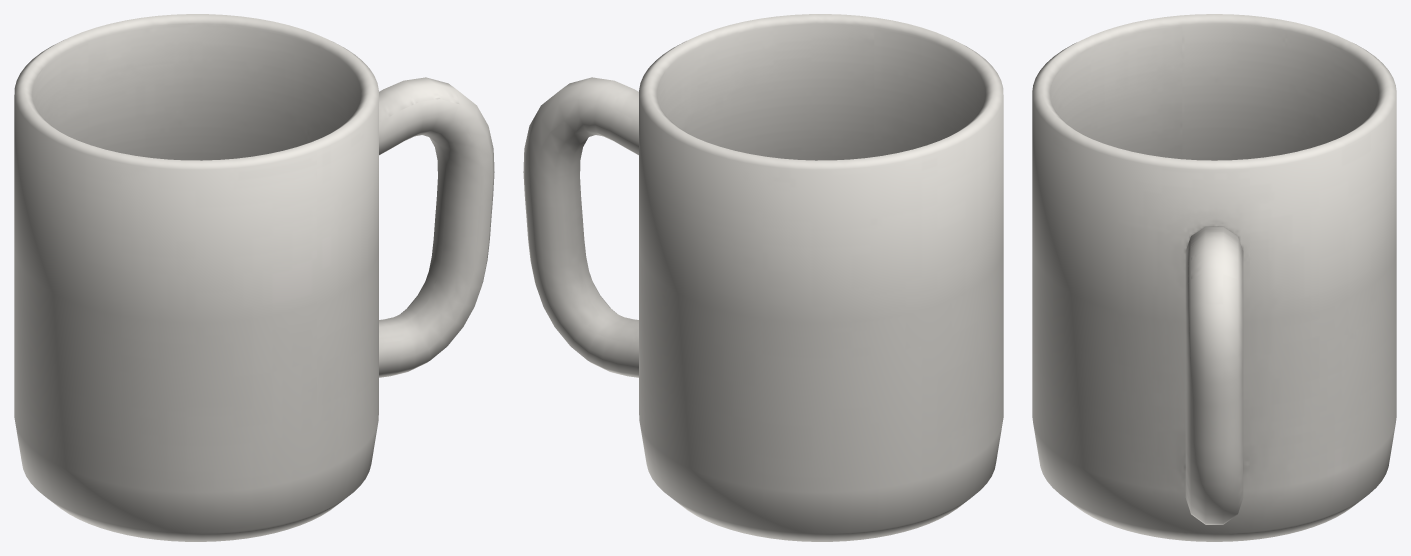
File: white.glb
3 renders of one model, left to right at view 1: azimuth 30°, elevation 25°; view 2: azimuth 150°, elevation 25°; view 3: azimuth 270°, elevation 25°, orthographic.
Parts seen in each view (by area): view 1: ceramic_primary; view 2: ceramic_primary; view 3: ceramic_primary.
Part boxes in pixels (x1,y1,x2,y2): ceramic_primary: (14,14,494,541); ceramic_primary: (523,14,1003,541); ceramic_primary: (1032,14,1396,541).
Bounding box in the file's own units: 0.1172 × 0.0964 × 0.082.
Materials: 1 (1 with a texture image).
